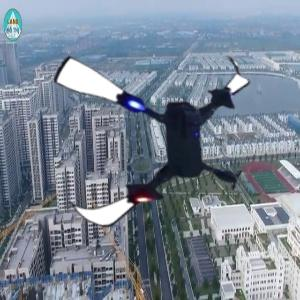drone: (36, 28, 263, 255)
